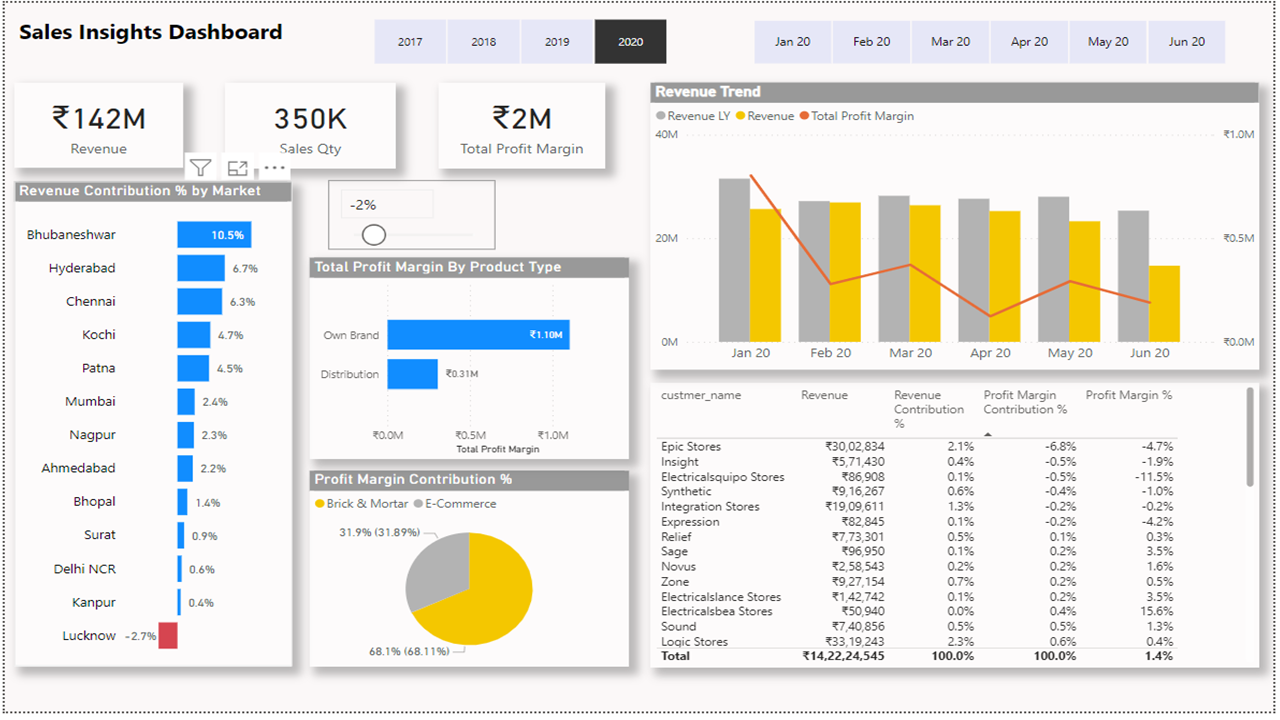

What the dashboard file says about the page in this screenshot:
{"tool":"powerbi","page":{"name":"Performance Insights","canvas":[1350,850],"ordinal":2},"visuals":[{"type":"card","fields":{"Values":["BaseMeasures (2).Revenue"]},"box":[10,95.9,180,102.5],"z":0},{"type":"card","fields":{"Values":["BaseMeasures (2).Sales Qty"]},"box":[234.6,95.9,181.9,103.1],"z":1000},{"type":"slicer","fields":{"Values":["sales date.year"]},"box":[366.6,12.9,360.8,67.3],"z":2000},{"type":"slicer","fields":{"Values":["sales date.cy_date"]},"box":[771.4,14.5,551.4,65.1],"z":3000},{"type":"lineClusteredColumnComboChart","title":"Revenue Trend","fields":{"Category":["sales date.cy_date"],"Y":["BaseMeasures (2).Revenue LY","BaseMeasures (2).Revenue"],"Y2":["BaseMeasures (2).Total Profit Margin"]},"box":[687.5,96.2,647.5,345],"z":5000},{"type":"card","fields":{"Values":["BaseMeasures (2).Total Profit Margin"]},"box":[461.1,95.9,177.6,103.1],"z":6000},{"type":"clusteredBarChart","title":"Revenue Contribution % by Market","fields":{"Category":["sales markets.markets_name"],"Y":["BaseMeasures (2).Profit Margin %"]},"box":[10,213.8,295,582.5],"z":7000},{"type":"slicer","fields":{"Values":["Profit Target.Profit Target"]},"box":[343.7,213.4,177.6,83.1],"z":8000},{"type":"pieChart","title":"Profit Margin Contribution %","fields":{"Category":["sales customers.customer_type"],"Y":["BaseMeasures (2).Profit Margin Contribution %"]},"box":[324.3,557.1,340,238.6],"z":9000},{"type":"clusteredBarChart","title":"Total Profit Margin By Product Type","fields":{"Y":["BaseMeasures (2).Total Profit Margin"],"Category":["sales products.product_type"]},"box":[324.3,305.7,340,237.1],"z":10000},{"type":"textbox","box":[10,12.5,300,57.5],"z":11000},{"type":"tableEx","title":"Top 5 Customers","fields":{"Values":["sales customers.custmer_name","BaseMeasures (2).Revenue","BaseMeasures (2).Revenue Contribution %","BaseMeasures (2).Profit Margin Contribution %","BaseMeasures (2).Profit Margin %"]},"box":[687.5,455,647.5,341.2],"z":11001}]}

Visuals, with their boxes on the page's 1350x850 design canvas (x1, y1, x2, y2). These are canvas units, not pixel positions in the 1280x720 screenshot, which may show the page scaled, cropped or inside an application window:
card - BaseMeasures (2).Revenue: rect(10, 96, 190, 198)
card - BaseMeasures (2).Sales Qty: rect(235, 96, 416, 199)
slicer - sales date.year: rect(367, 13, 727, 80)
slicer - sales date.cy_date: rect(771, 14, 1323, 80)
"Revenue Trend" lineClusteredColumnComboChart: rect(688, 96, 1335, 441)
card - BaseMeasures (2).Total Profit Margin: rect(461, 96, 639, 199)
"Revenue Contribution % by Market" clusteredBarChart: rect(10, 214, 305, 796)
slicer - Profit Target.Profit Target: rect(344, 213, 521, 296)
"Profit Margin Contribution %" pieChart: rect(324, 557, 664, 796)
"Total Profit Margin By Product Type" clusteredBarChart: rect(324, 306, 664, 543)
textbox: rect(10, 12, 310, 70)
"Top 5 Customers" tableEx: rect(688, 455, 1335, 796)
